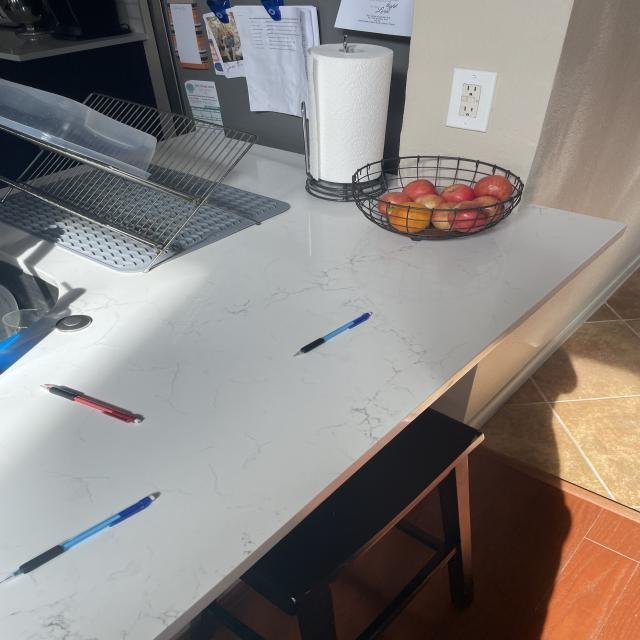mechanical-pencils: (14, 492, 159, 582), (50, 382, 153, 427), (301, 309, 378, 355)
